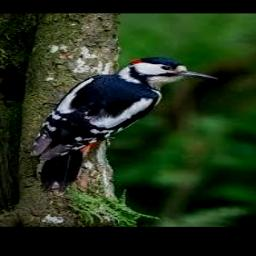Woodpecker: (30, 57, 218, 193)
